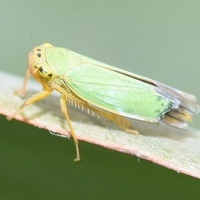insect: (8, 43, 199, 160)
